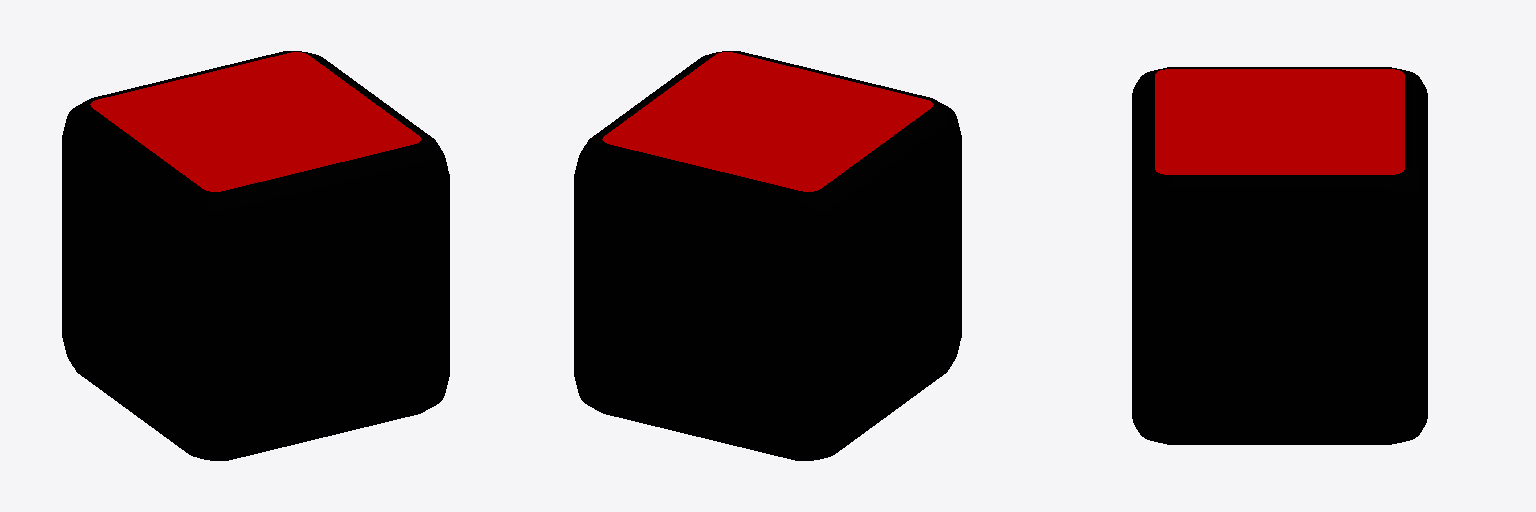
File: center_r.obj
3 renders of one model, left to right at view 1: azimuth 30°, elevation 25°; view 2: azimuth 150°, elevation 25°; view 3: azimuth 270°, elevation 25°, orthographic.
Parts seen in each view (by area): view 1: Cube; view 2: Cube; view 3: Cube.
Part boxes in pixels (x1,y1,x2,y2): Cube: (62, 51, 449, 460); Cube: (574, 51, 961, 460); Cube: (1132, 67, 1427, 444).
Size of the model in its own units: 2 by 2 by 2.